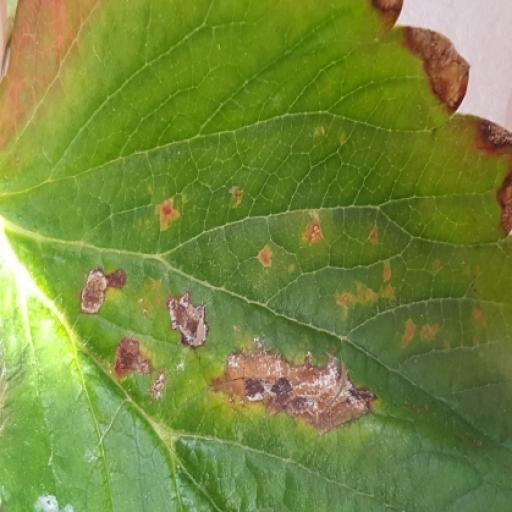Angular Leafspot: (18, 174, 452, 439)
